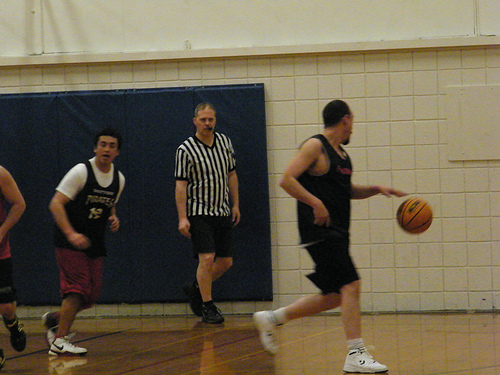basketball: (396, 195, 434, 235)
